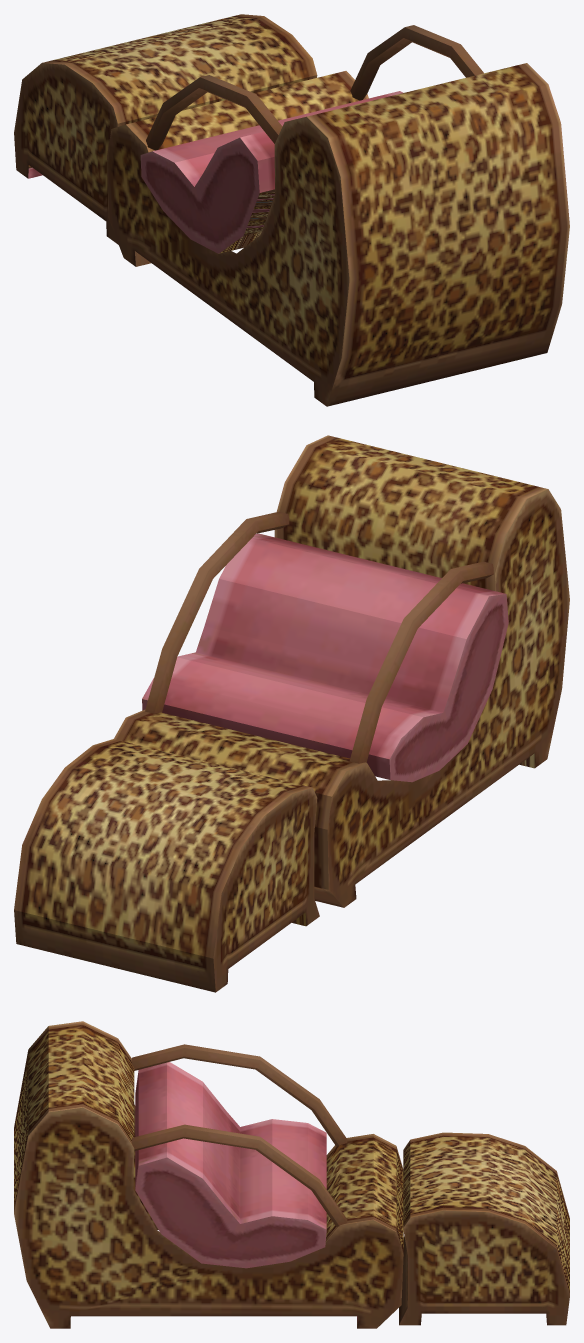
The model's file is furni_0200102.FBX.
3 renders of one model, top to bottom at view 1: azimuth 30°, elevation 25°; view 2: azimuth 150°, elevation 25°; view 3: azimuth 270°, elevation 25°, orthographic. The views are drawn at different scales.
Visible parts, largest first — view 1: furni_0200102; view 2: furni_0200102; view 3: furni_0200102.
Boxes of the visible parts, box(x1,y1,x2,y2) form: furni_0200102: box(14, 14, 569, 406); furni_0200102: box(14, 435, 569, 992); furni_0200102: box(14, 1021, 569, 1328).
Bounding box in the file's own units: 79.85 × 85.06 × 193.
1 material, 1 textured.
